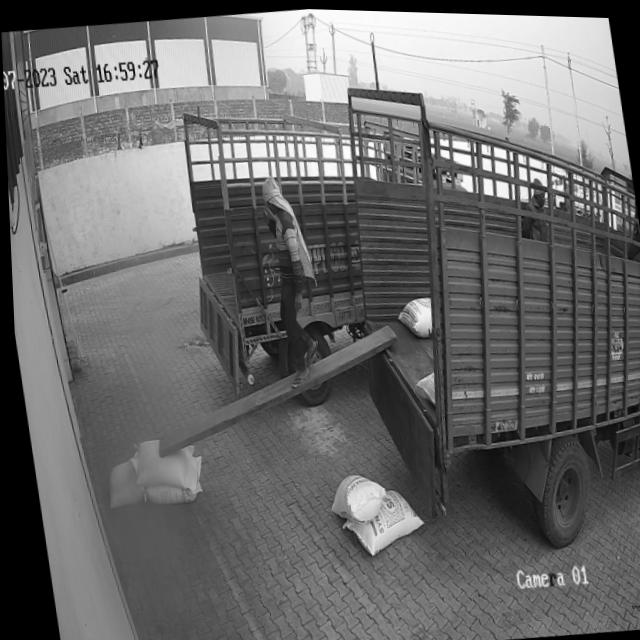sack: (331, 481, 423, 558), (125, 434, 194, 492), (133, 453, 203, 507), (322, 468, 384, 524), (98, 456, 142, 508)
